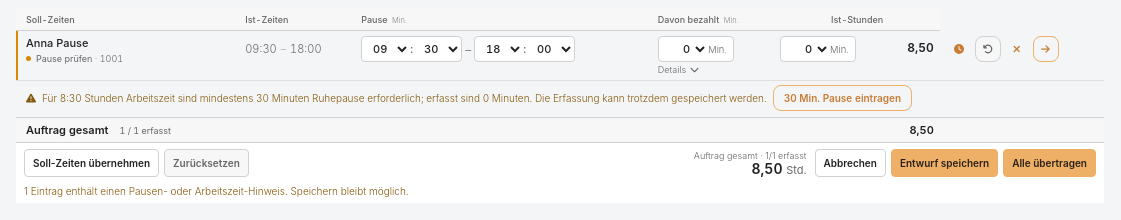
Test: Stundenschnellerfassung row handoff › inserts the required minimum break from the warning action
Click the button "30 Min. Pause eintragen" at (842, 98), box [773,85,912,111]
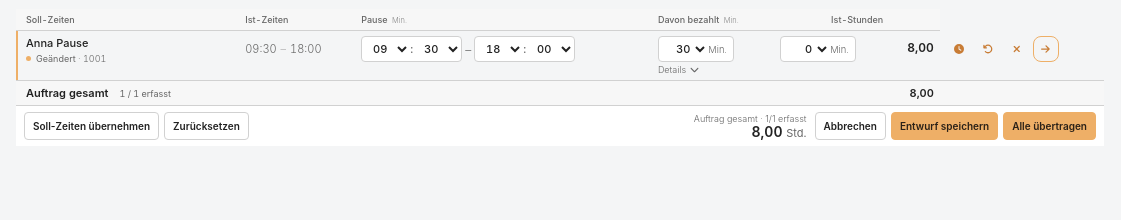
Check: the dropdown named "Pause in Minuten – Anna Pause" shows "30", box [659,37,708,61]
